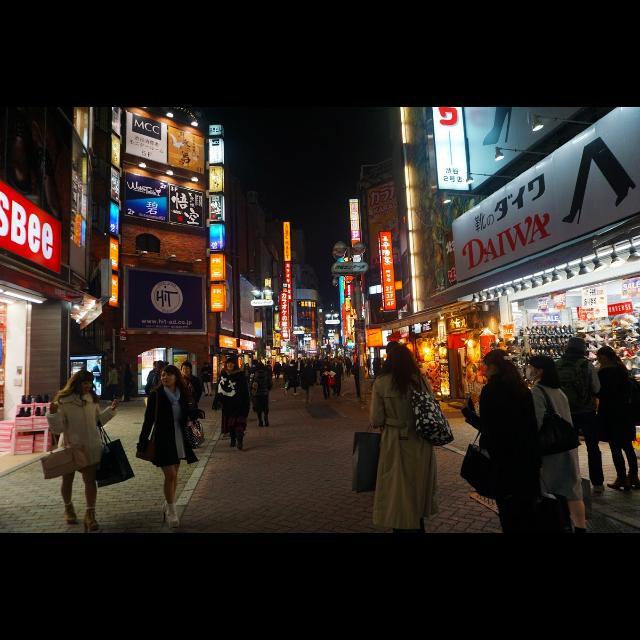head: (483, 348, 511, 382), (525, 356, 553, 382), (390, 346, 412, 370), (75, 371, 95, 395), (160, 366, 180, 388), (596, 346, 616, 366), (570, 338, 586, 358), (181, 362, 193, 376), (226, 359, 238, 371), (258, 363, 264, 371), (109, 364, 115, 370), (126, 364, 132, 370), (334, 358, 340, 364), (356, 357, 362, 363), (291, 360, 295, 366), (308, 360, 312, 366), (324, 364, 328, 370), (246, 364, 250, 368), (267, 361, 271, 365), (204, 364, 208, 368), (368, 356, 370, 360)
person: (133, 366, 207, 530), (550, 336, 608, 498), (212, 358, 252, 454), (176, 360, 206, 452), (250, 362, 274, 430), (301, 358, 319, 406), (351, 356, 367, 400), (319, 362, 336, 401), (119, 363, 135, 403), (284, 359, 300, 397), (106, 364, 120, 406), (330, 357, 344, 398), (202, 362, 214, 398), (264, 360, 274, 390), (242, 362, 252, 388), (366, 354, 374, 378)
